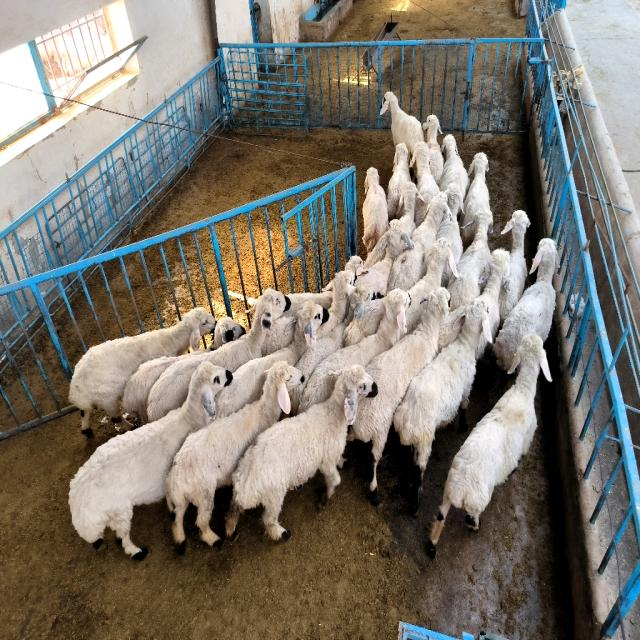sheep: (69, 362, 229, 558), (226, 365, 378, 539), (430, 333, 551, 549), (166, 362, 301, 551), (349, 288, 449, 504), (394, 298, 491, 511), (69, 307, 216, 435), (149, 288, 290, 419), (299, 290, 411, 412), (215, 302, 329, 417), (122, 317, 246, 422), (494, 238, 559, 370), (296, 287, 375, 382), (388, 193, 450, 291), (405, 238, 458, 332), (355, 220, 414, 296), (448, 210, 492, 311), (499, 210, 530, 324), (478, 248, 510, 339), (461, 152, 490, 248), (380, 92, 424, 154), (316, 270, 355, 338), (410, 142, 439, 224), (362, 167, 389, 252), (436, 183, 462, 262), (439, 135, 470, 198), (388, 143, 411, 219), (281, 282, 332, 316), (422, 115, 444, 183), (439, 305, 467, 351), (399, 182, 422, 236), (345, 255, 364, 282), (291, 387, 302, 414), (475, 338, 486, 359), (441, 268, 451, 286)
